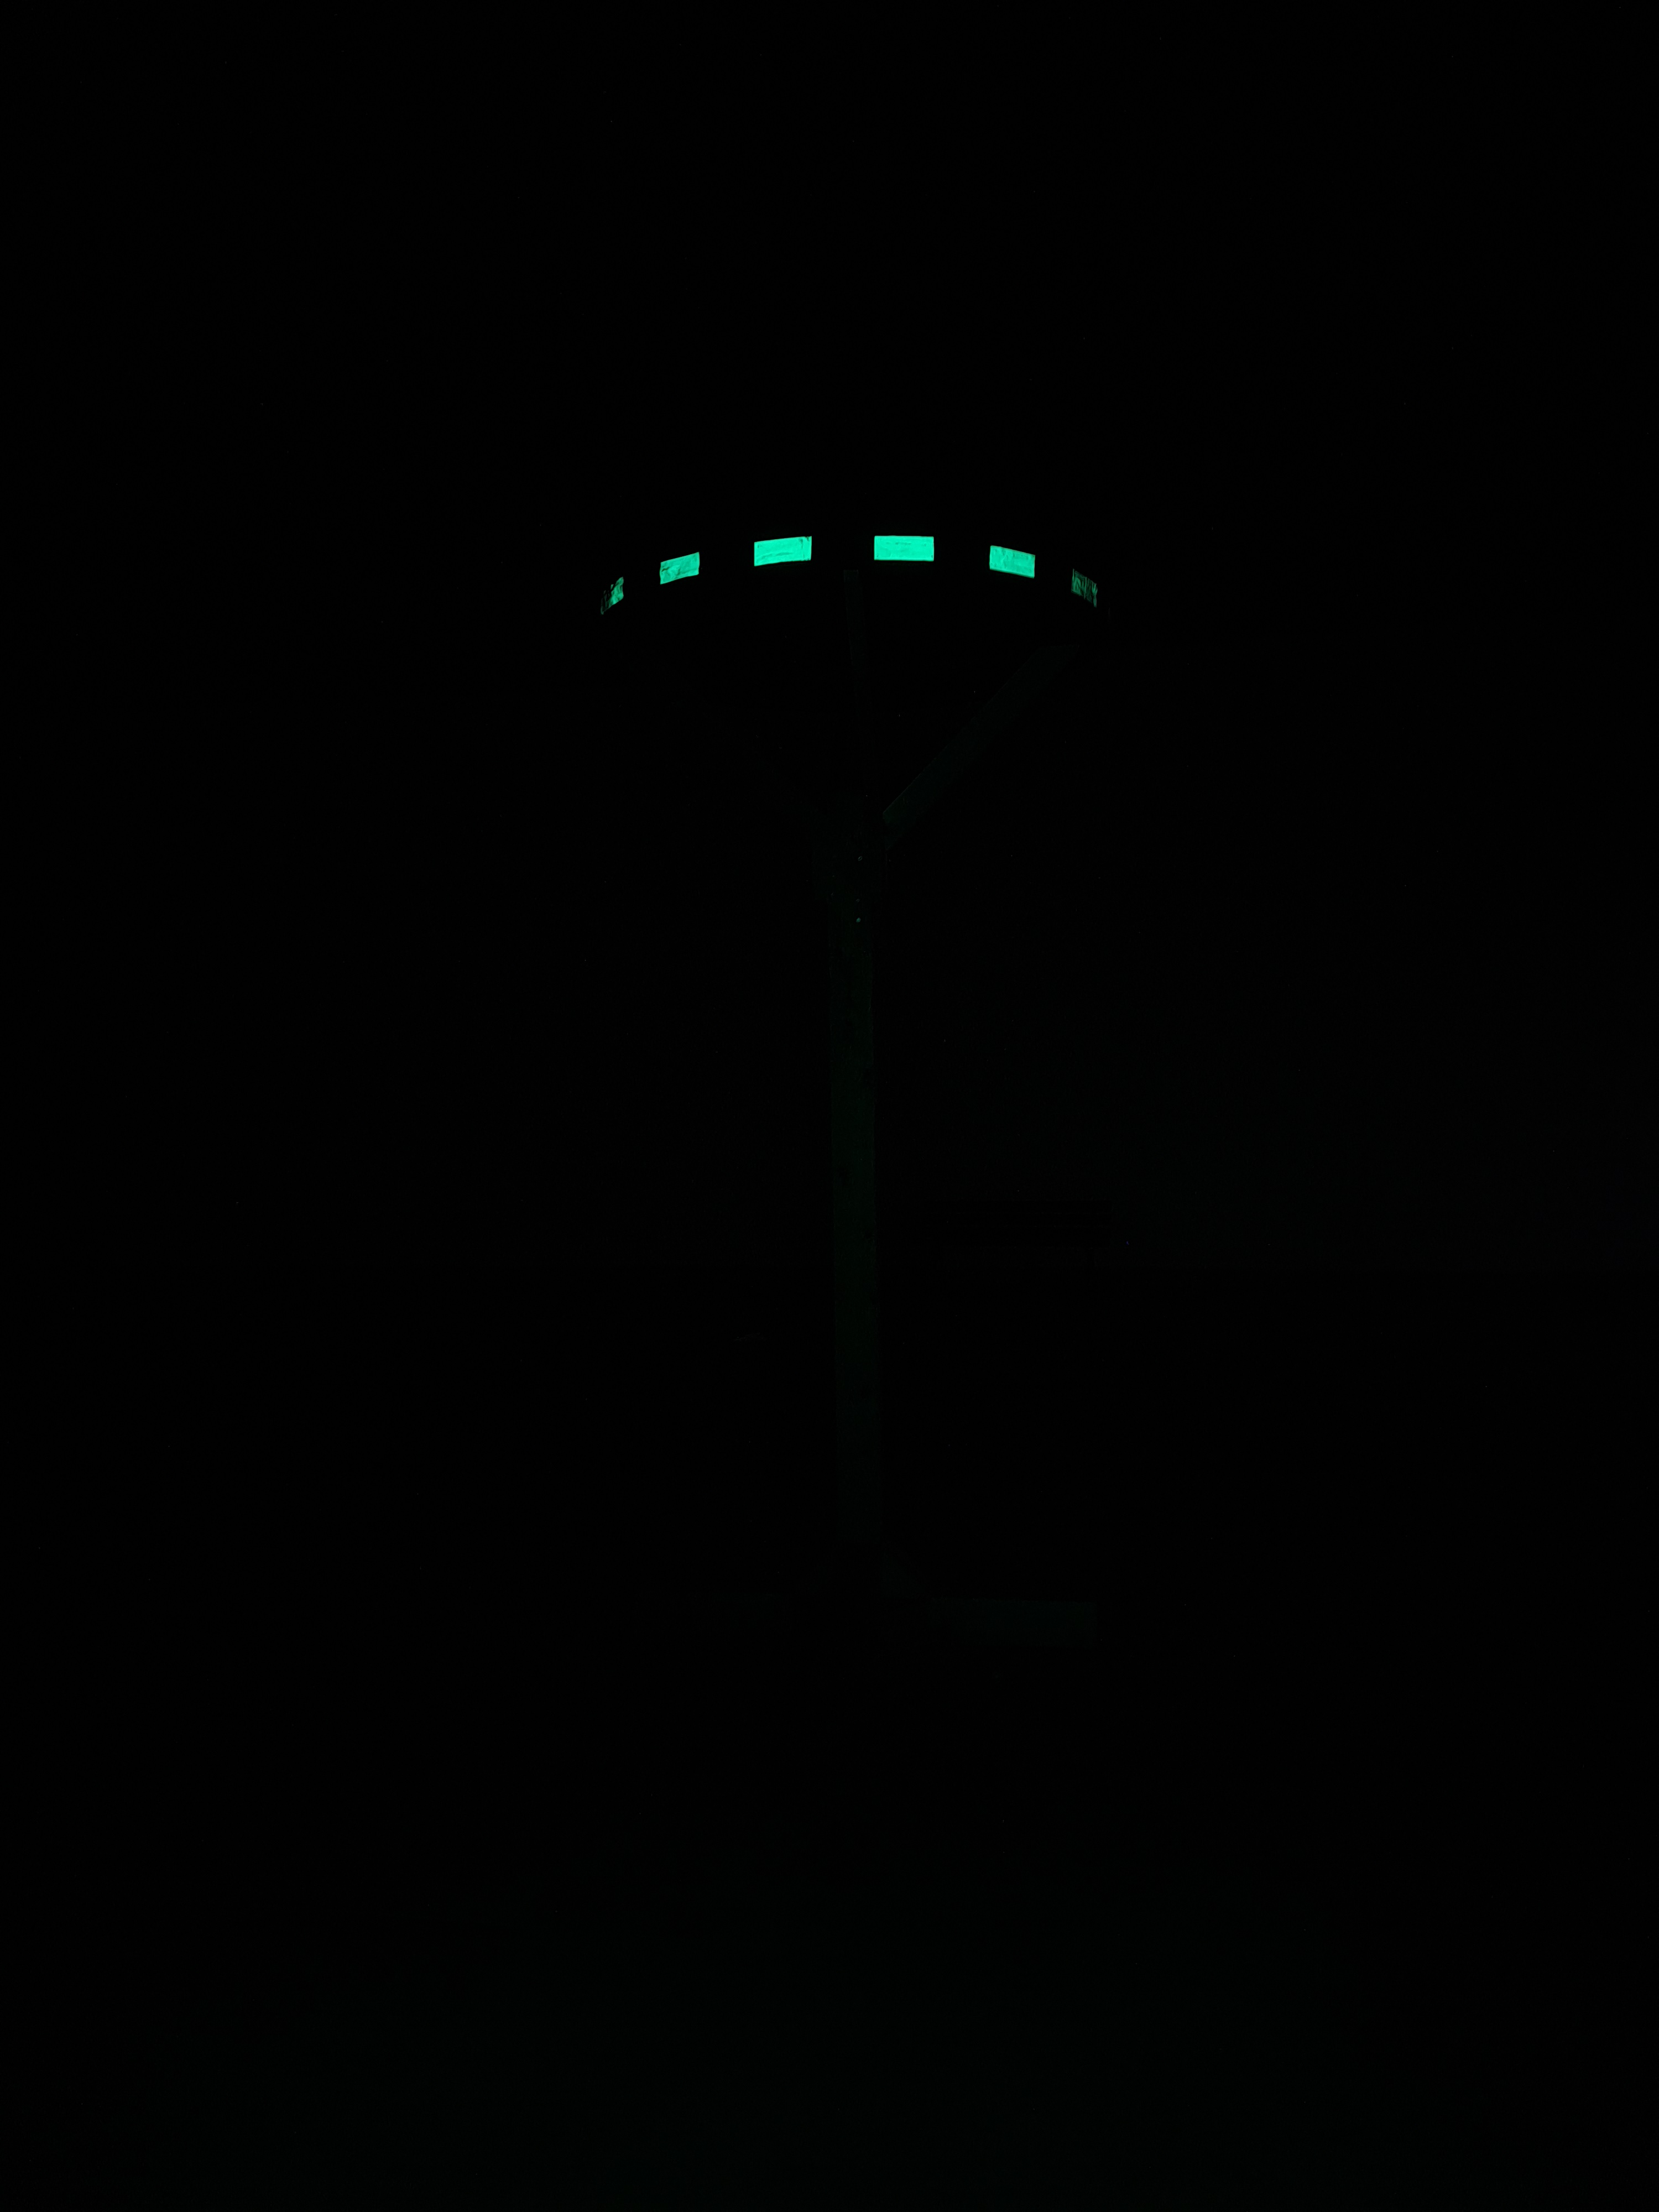hoop: (598, 526, 1101, 634)
